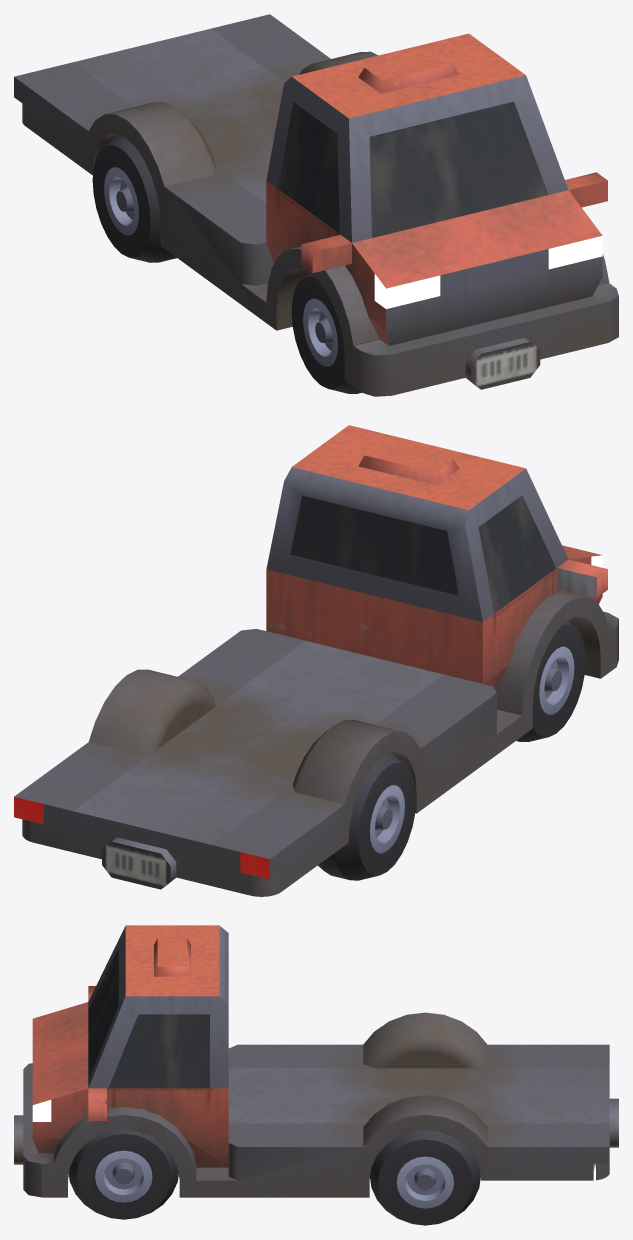
The model's file is delivery-flat-L3.glb.
The picture shows the model from 3 angles, top to bottom: view 1: azimuth 30°, elevation 25°; view 2: azimuth 150°, elevation 25°; view 3: azimuth 270°, elevation 25°; orthographic projection. The views are drawn at different scales.
Visible parts, largest first — view 1: body, wheel-back-right, wheel-front-right; view 2: body, wheel-back-right, wheel-front-right; view 3: body, wheel-back-left, wheel-front-left.
Part boxes in pixels (x1,y1,x2,y2): body: (14, 14, 618, 396); wheel-back-right: (92, 134, 176, 262); wheel-front-right: (291, 272, 361, 393); body: (14, 425, 618, 896); wheel-back-right: (318, 752, 416, 880); wheel-front-right: (516, 621, 585, 741); body: (14, 925, 618, 1197); wheel-back-left: (370, 1130, 480, 1225); wheel-front-left: (69, 1130, 178, 1219).
Size of the model in its own units: 1.5 by 1.35 by 3.25.
Materials: 5 (5 with a texture image).
